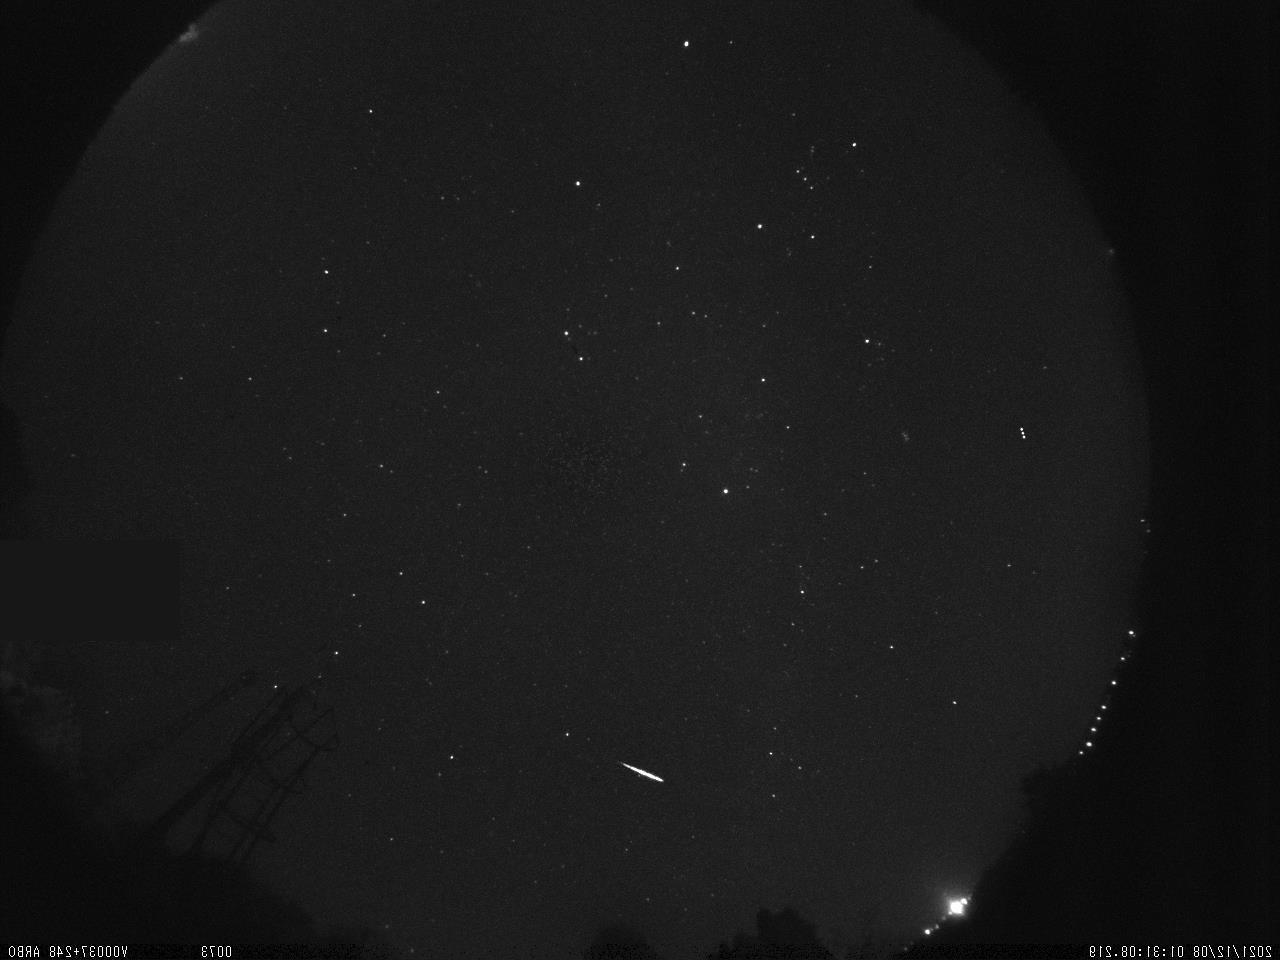meteor: (604, 747, 697, 801)
